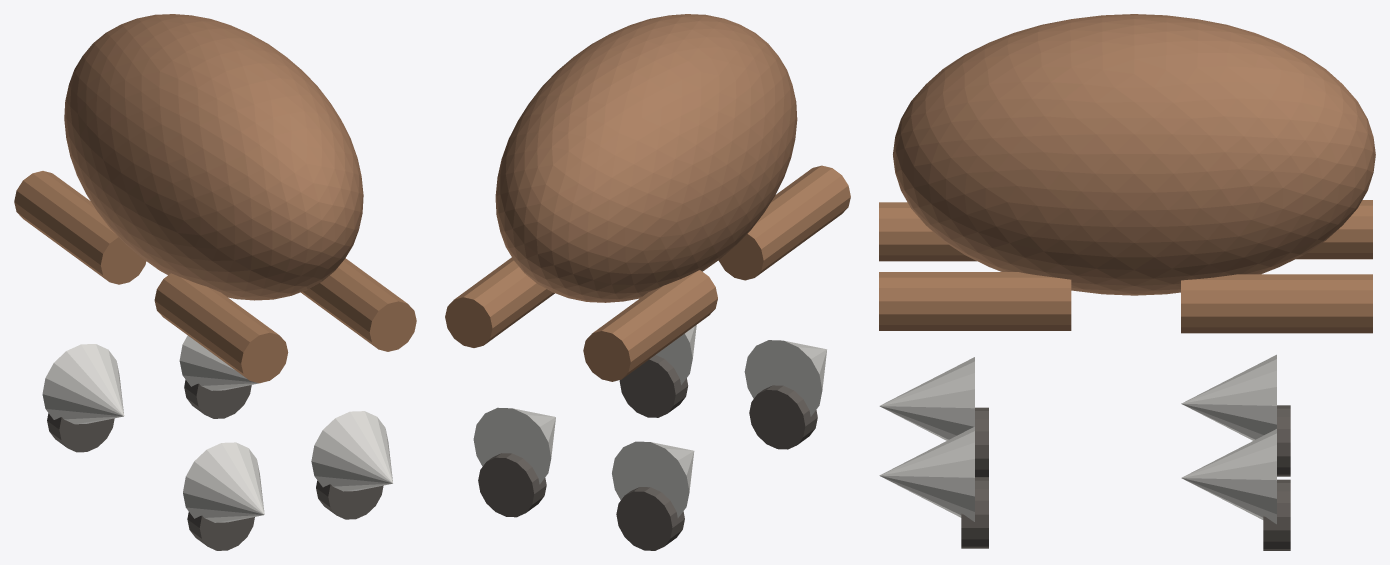
The model's file is cheval_draft_assembled.glb.
The picture shows the model from 3 angles, left to right: view 1: azimuth 30°, elevation 25°; view 2: azimuth 150°, elevation 25°; view 3: azimuth 270°, elevation 25°; orthographic projection. The views are drawn at different scales.
Visible parts, largest first — view 1: body, world; view 2: body, world; view 3: body, world.
Part boxes in pixels (x1,y1,x2,y2): body: (64, 14, 363, 300); world: (14, 171, 416, 550); body: (495, 14, 797, 302); world: (445, 165, 850, 550); body: (893, 14, 1375, 295); world: (879, 200, 1372, 550).
Bounding box in the file's own units: 1 × 1.95 × 1.81.
